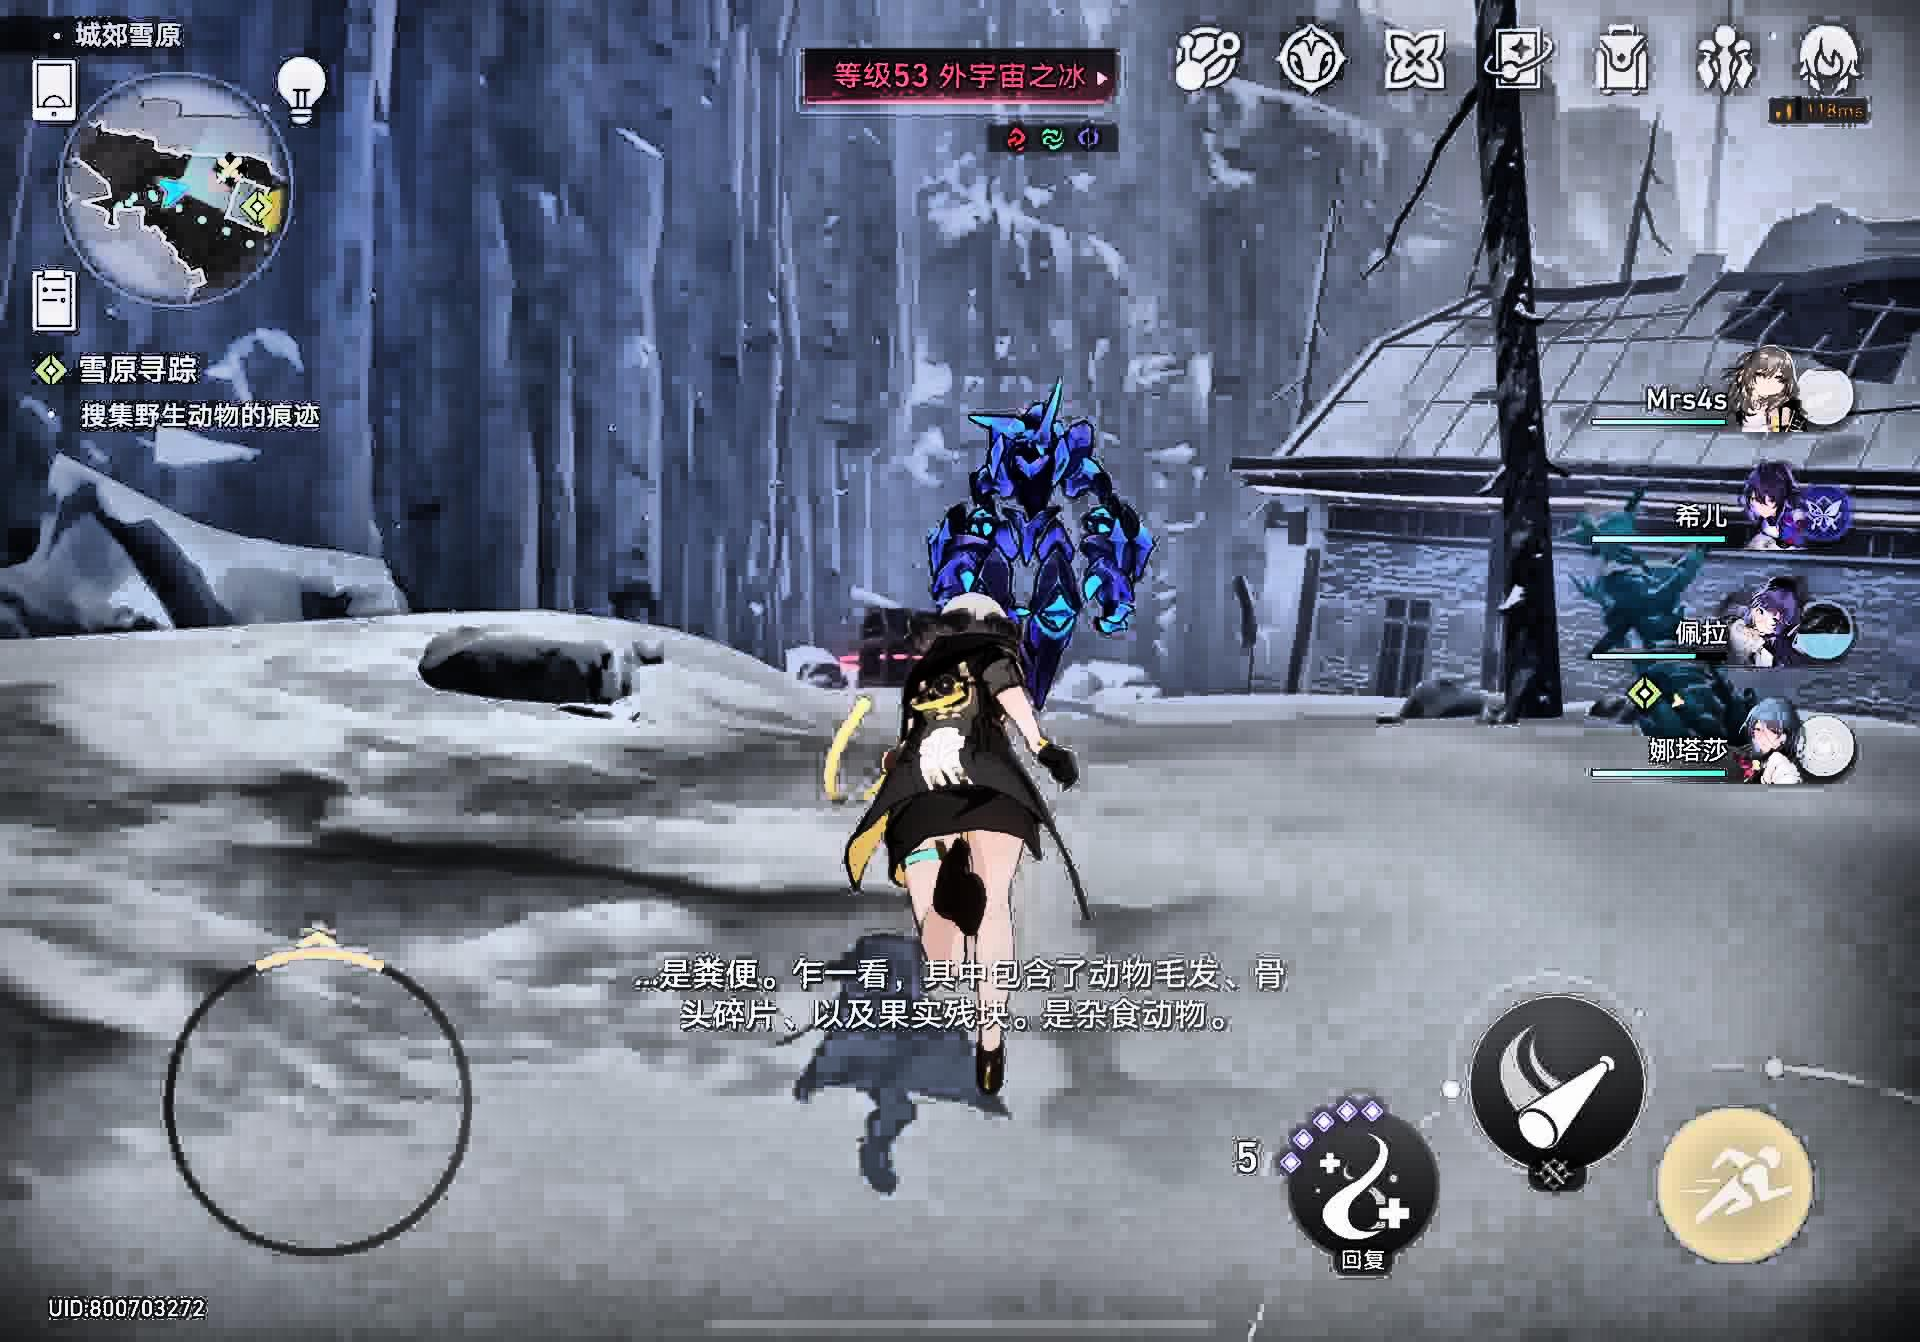Enemy: (929, 392, 1153, 734)
Self: (829, 594, 1104, 1104)
